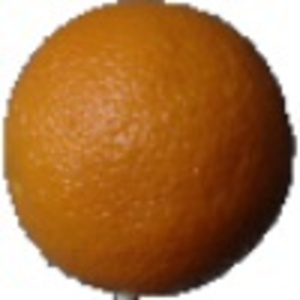laranja: (5, 3, 294, 295)
